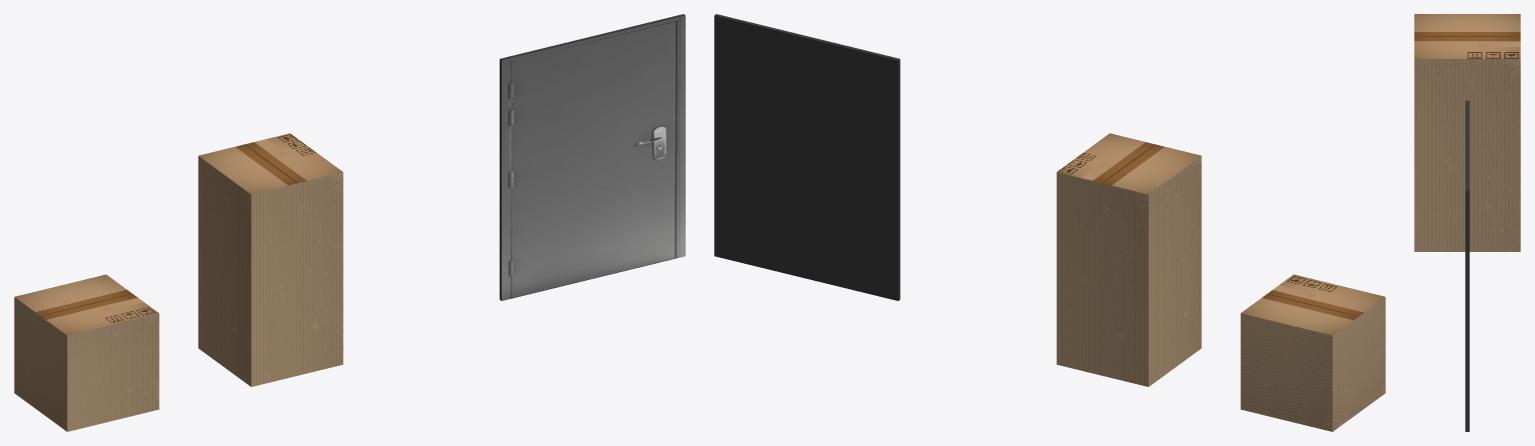
The model's file is office_props_3.glb.
The picture shows the model from 3 angles, left to right: view 1: azimuth 30°, elevation 25°; view 2: azimuth 150°, elevation 25°; view 3: azimuth 270°, elevation 25°; orthographic projection.
Parts seen in each view (by area): view 1: BathroomDoor, Box2, Box1; view 2: BathroomDoor, Box2, Box1; view 3: Box2, BathroomDoor.
Part boxes in pixels (x1,y1,x2,y2): BathroomDoor: (499,14,685,300); Box2: (198,133,343,386); Box1: (14,274,159,431); BathroomDoor: (714,14,900,300); Box2: (1056,133,1201,386); Box1: (1240,274,1385,431); Box2: (1414,14,1520,251); BathroomDoor: (1465,100,1469,431).
Size of what is drawn, in the model's own units: 14 by 5 by 2.
3 materials, 3 textured.
